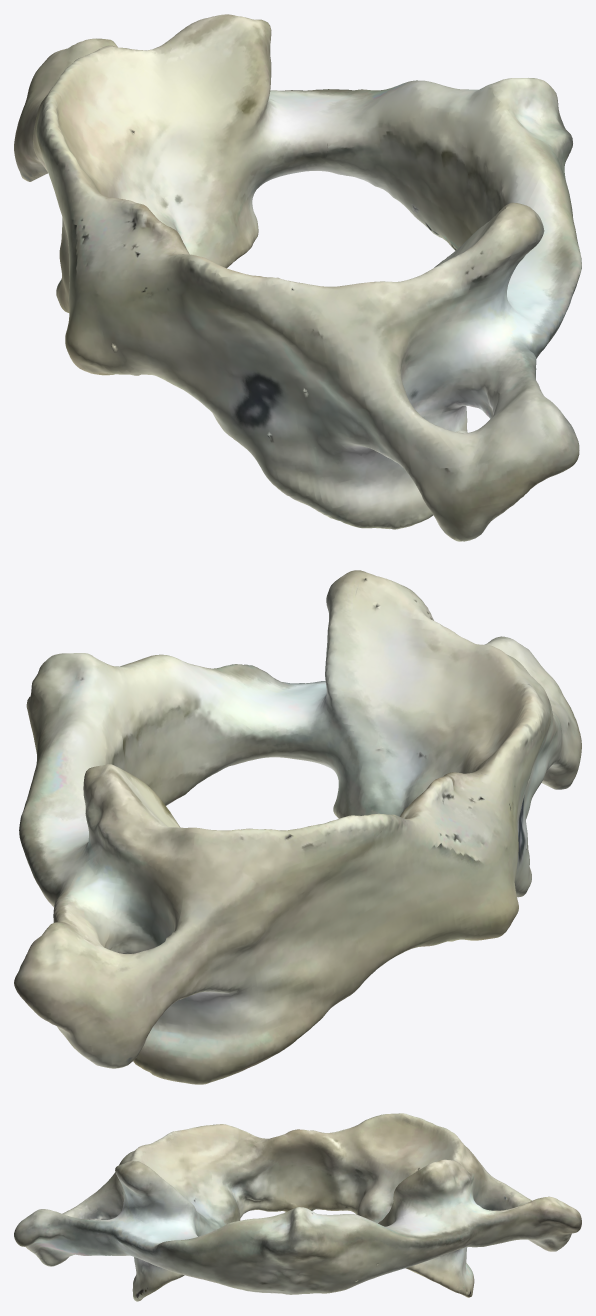
The model's file is atlas.glb.
The picture shows the model from 3 angles, top to bottom: view 1: azimuth 30°, elevation 25°; view 2: azimuth 150°, elevation 25°; view 3: azimuth 270°, elevation 25°; orthographic projection. The views are drawn at different scales.
Parts seen in each view (by area): view 1: Merge_01_tex; view 2: Merge_01_tex; view 3: Merge_01_tex.
Part boxes in pixels (bbox=[...]): Merge_01_tex: bbox=[14, 14, 581, 541]; Merge_01_tex: bbox=[14, 570, 581, 1084]; Merge_01_tex: bbox=[14, 1113, 581, 1301].
Size of the model in its own units: 43.83 by 25.22 by 78.83.
Materials: 1 (1 with a texture image).
